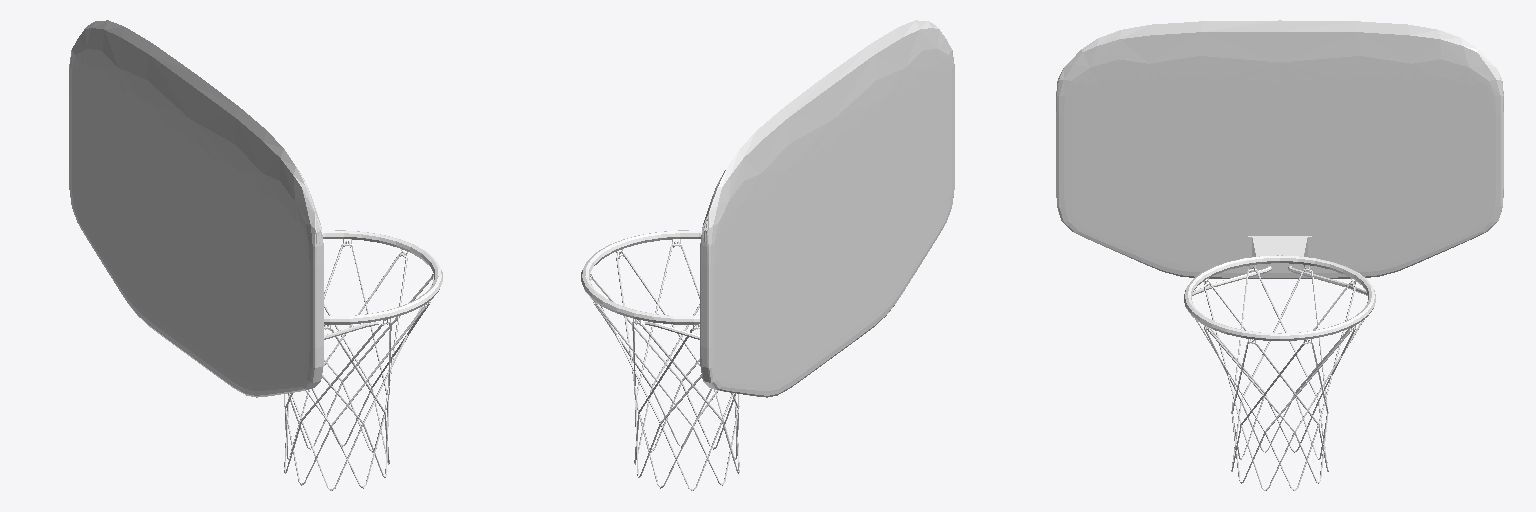
robot.urdf — hoop:
<robot name="hoop">
	<link name="_name">
		<visual>
			<origin rpy="0 0 0" xyz="-0.57856178 0.0 1.41190734" />
			<geometry>
				<mesh filename="hoop/basketball_net_and_board.obj" scale="0.02 0.02 0.02" />
			</geometry>
			<material name="texture">
				<color rgba="1.0 1.0 1.0 1.0" />
			</material>
		</visual>
		<collision>
			<geometry>
				<mesh filename="hoop/basketball_net_and_board_vhacd.obj" scale="0.02 0.02 0.02" />
			</geometry>
		<origin rpy="0 0 0" xyz="-0.57856178 0.0 1.41190734" /></collision>
		<inertial>
			<mass value="1.0" />
			<inertia ixx="1.0" ixy="0.0" ixz="0.0" iyy="1.0" iyz="0.0" izz="1.0" />
		</inertial>
	</link>
</robot>

--- Facts derived from the render (not from the file) ---
Views: 3 orthographic renders of the robot side by side, from view 1: azimuth 30°, elevation 25°; view 2: azimuth 150°, elevation 25°; view 3: azimuth 270°, elevation 25°.
Robot: hoop — 1 links, 0 joints (none); root link _name; default pose: every joint at zero.
Visible links, largest first — view 1: _name; view 2: _name; view 3: _name.
Boxes of the visible links, x1,y1,x2,y2 form: _name: [69, 20, 442, 490]; _name: [581, 20, 954, 490]; _name: [1056, 20, 1503, 490].
Bounding box of the posed robot: 1.22 × 2.18 × 2.09 m (x, y, z).
Meshes: 1 distinct files referenced, 1 mesh visuals loaded (1 OBJ).